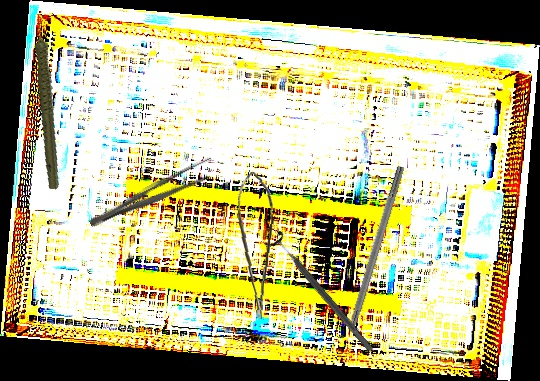Dressing Forceps: (85, 154, 220, 235)
Fixation Ring: (262, 227, 381, 359)
Handpiece: (11, 12, 87, 191)
Hook Surgical: (337, 164, 406, 357)
Micro Scissor: (228, 170, 278, 320)
